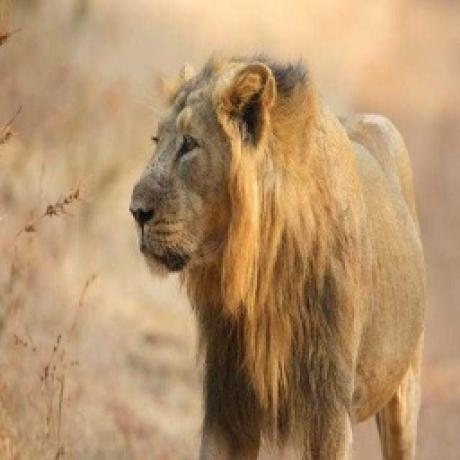Lion: (128, 54, 430, 460)
